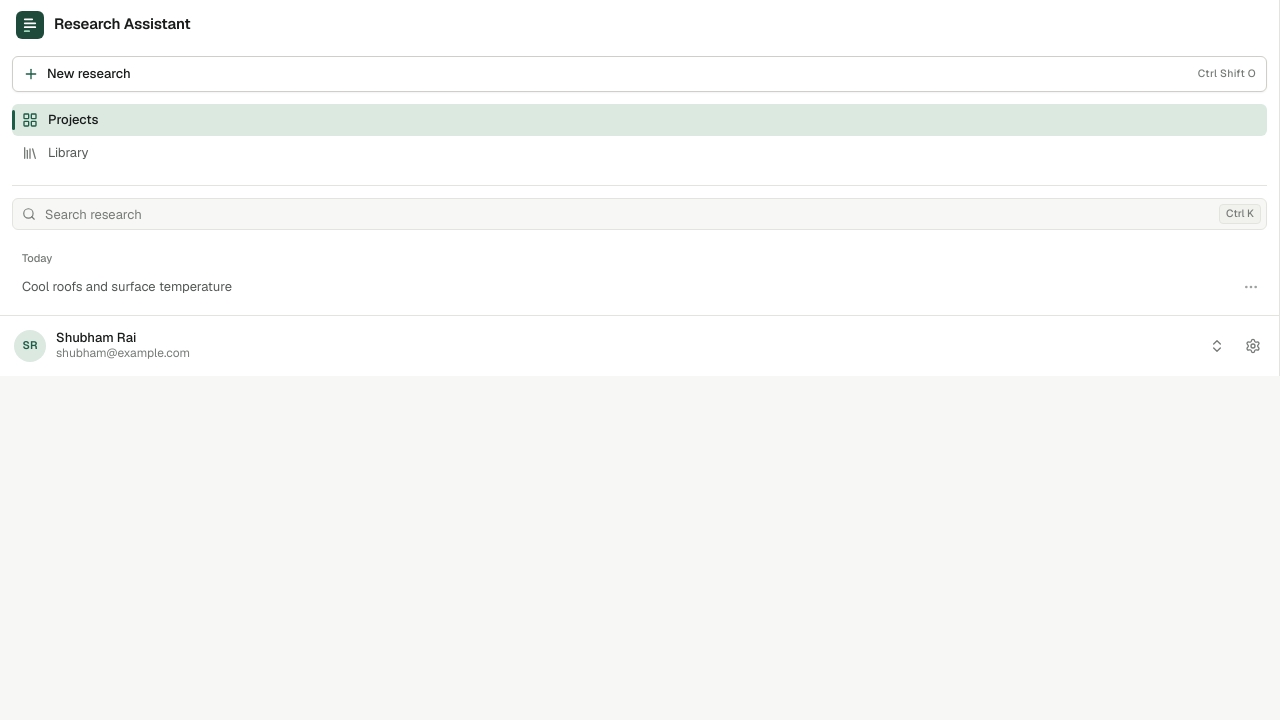
Test case: Deleting a research › offers Undo, which brings the research back
This screenshot has width=1280, height=720.
Click the button named "Options for Cool roofs and surface temperature" at (1251, 286), box [1239,274,1263,298]
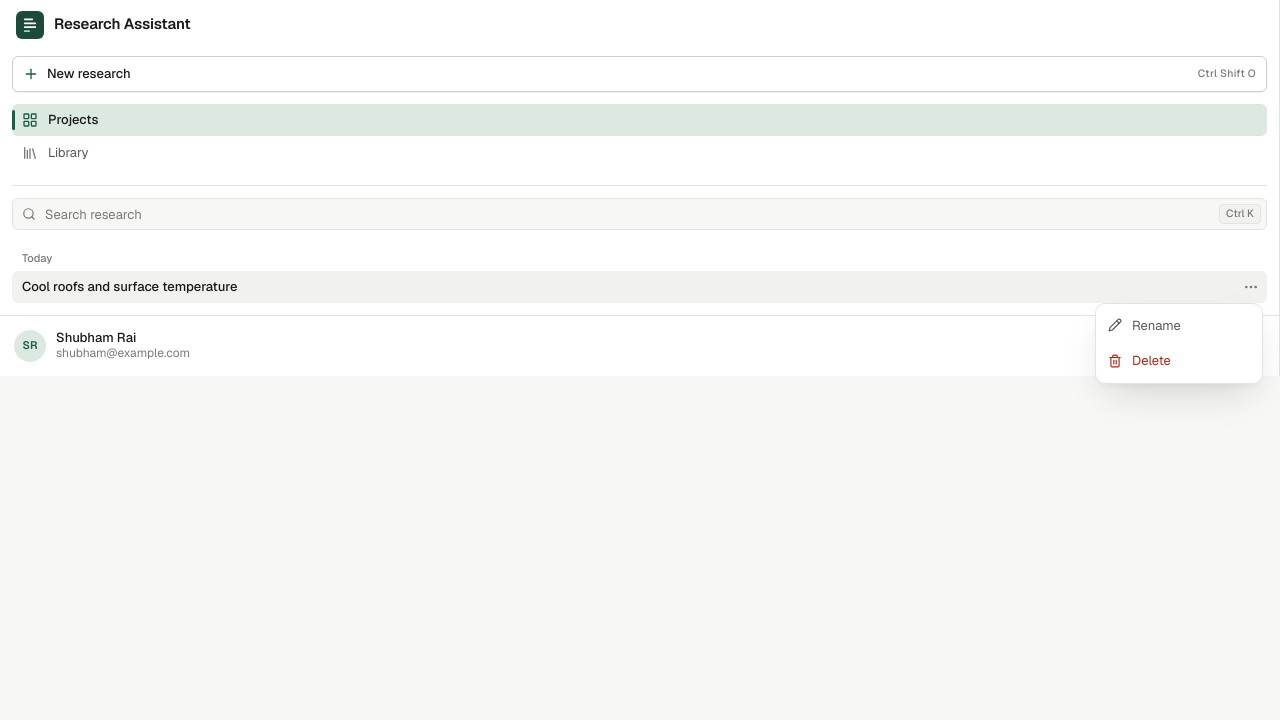
Click the menu item "Delete" at (1179, 361), box [1096,343,1262,378]
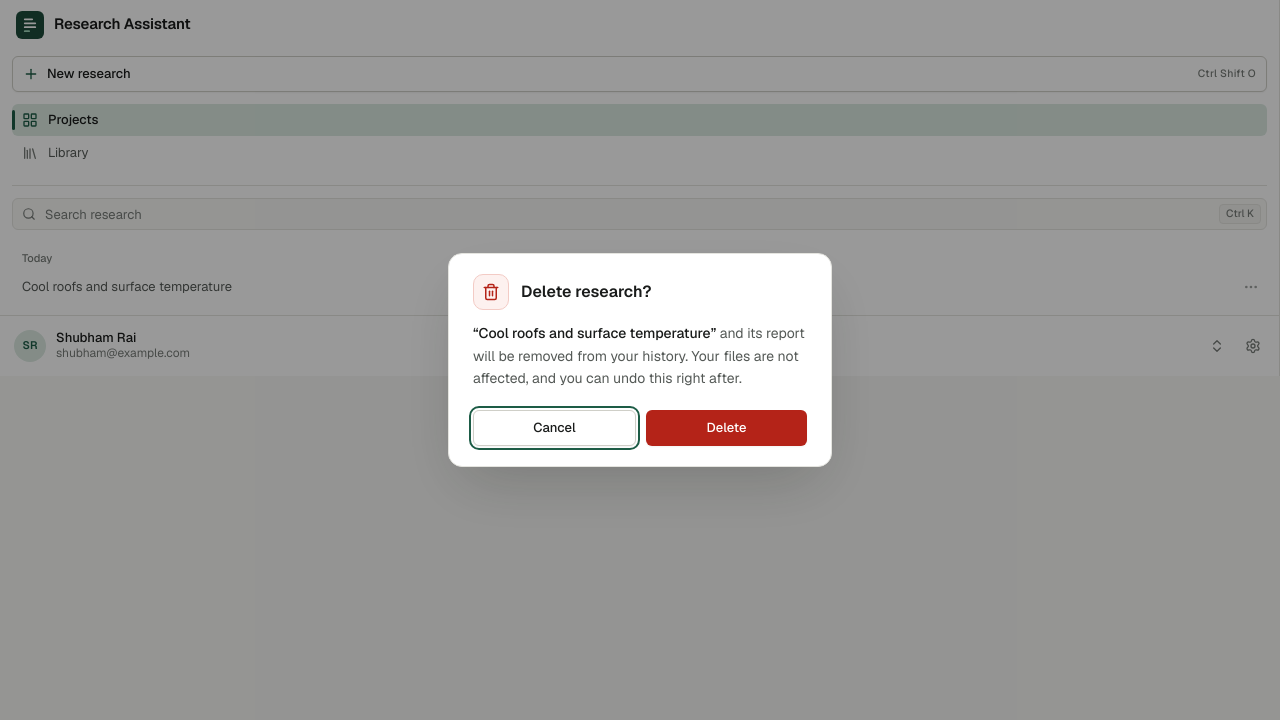
Click the button "Delete" at (726, 428), box [646,410,807,446]
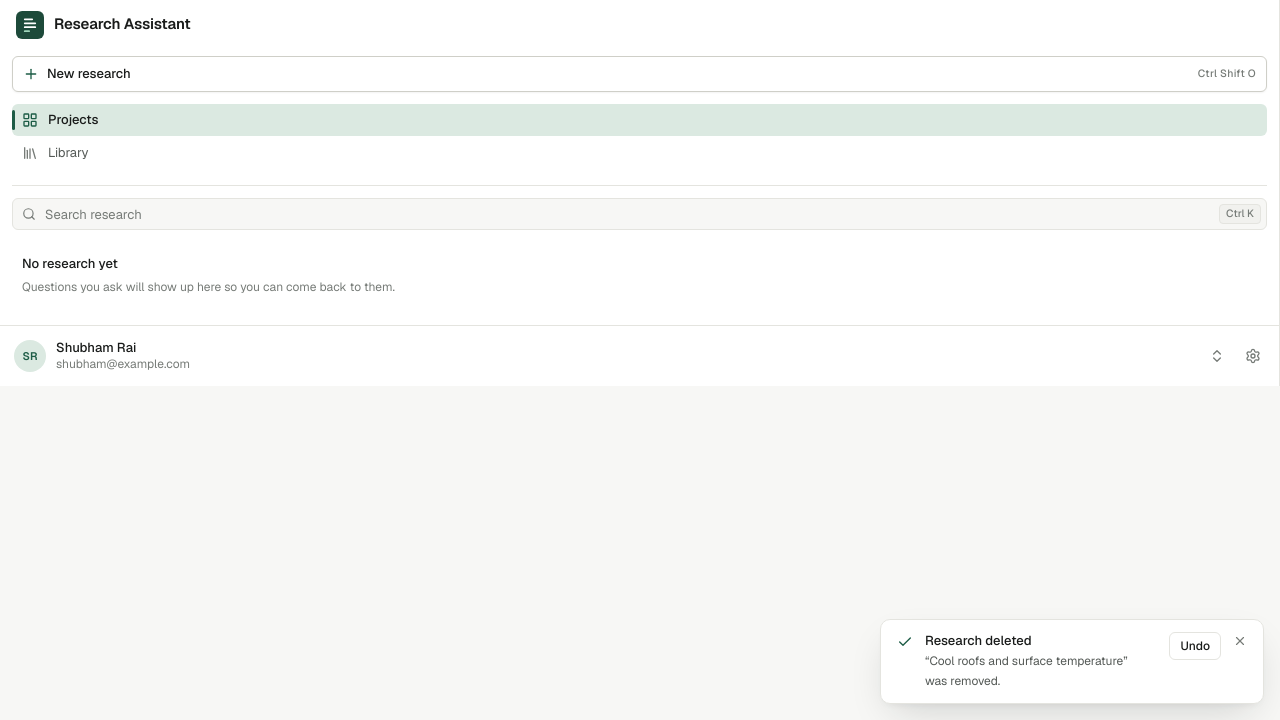
Expected: the text "Research deleted" is shown, [925,632,1032,649]
Click the button "Undo" at (1195, 646), box [1170,632,1221,660]
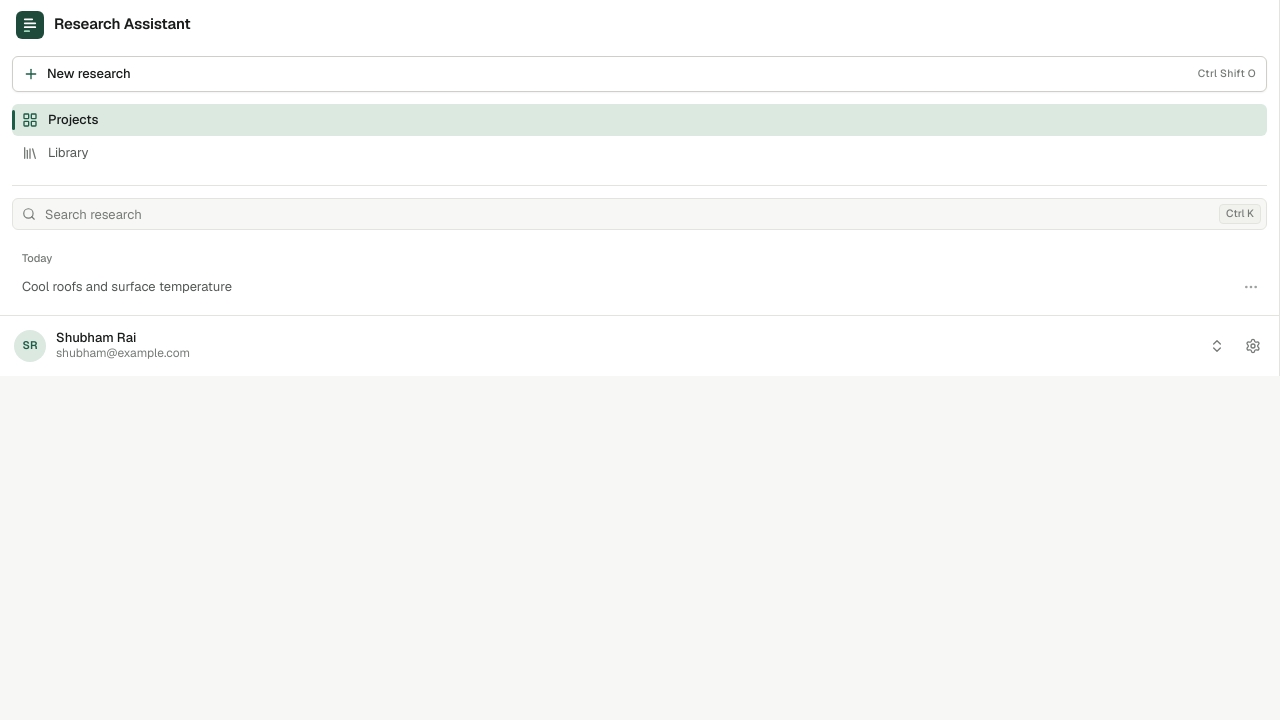
Expected: the link "Cool roofs and surface temperature" is shown, [22,278,232,295]
Expected: the text "Research deleted" is gone
